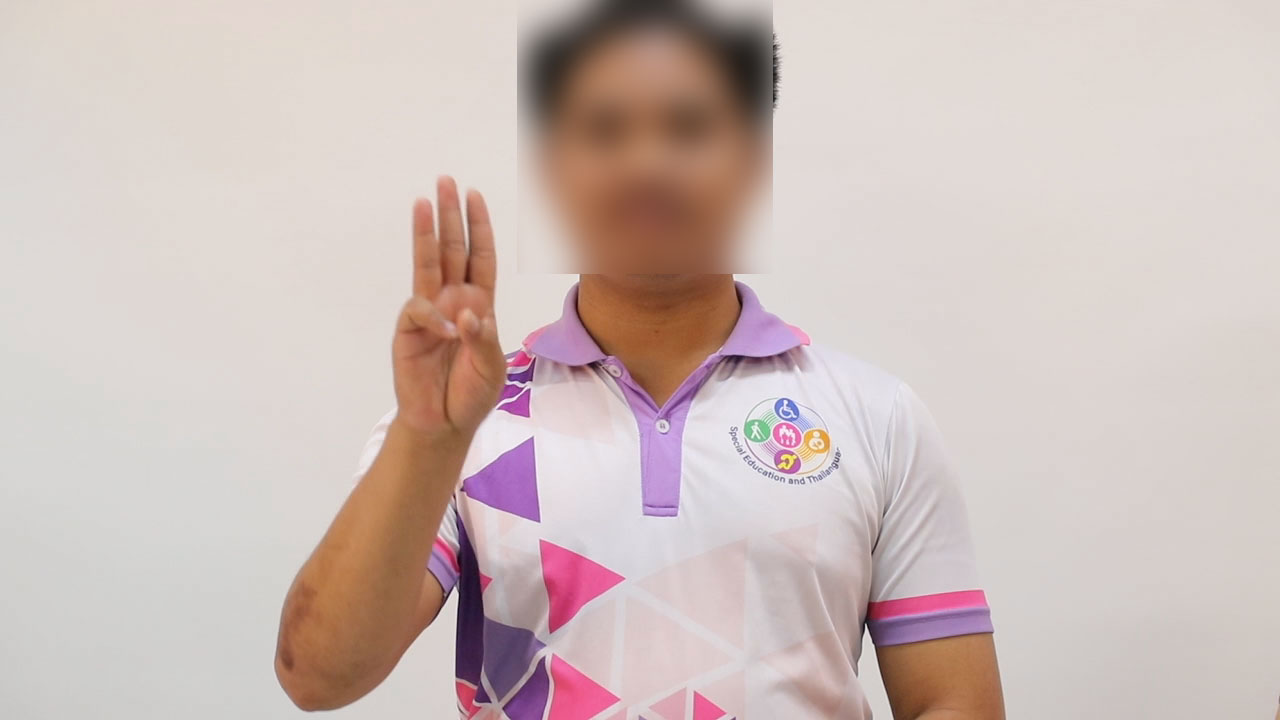wor: (374, 168, 519, 444)
